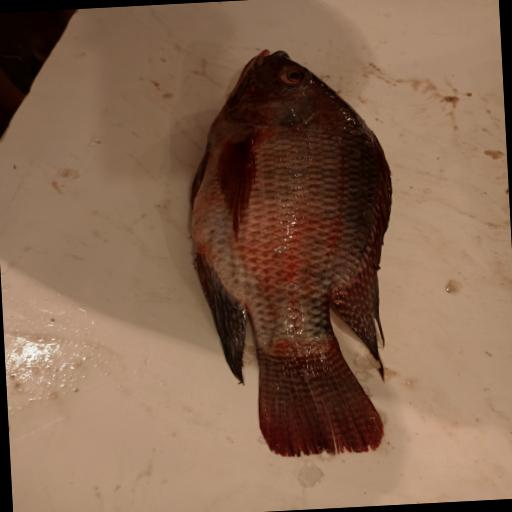Tilapia: (181, 43, 407, 463)
